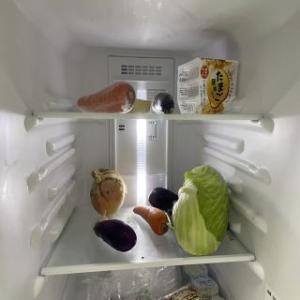cabbage: (172, 166, 230, 256)
carrot: (78, 81, 136, 111), (132, 204, 168, 235)
eggplant: (93, 218, 135, 252), (149, 186, 179, 212), (153, 92, 175, 117)
onion: (89, 166, 127, 216)
